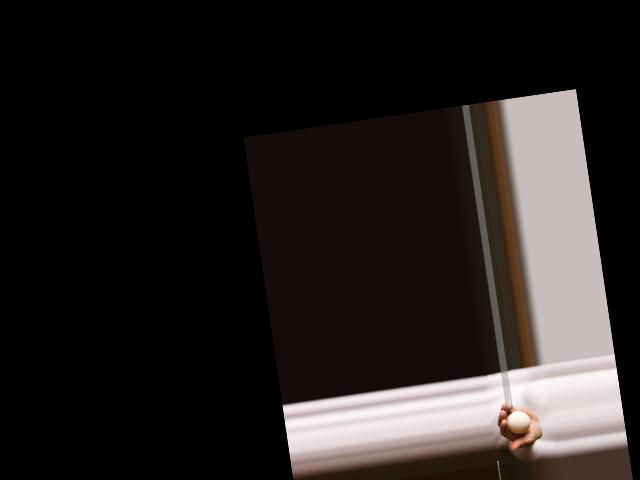egg: (504, 409, 531, 435)
